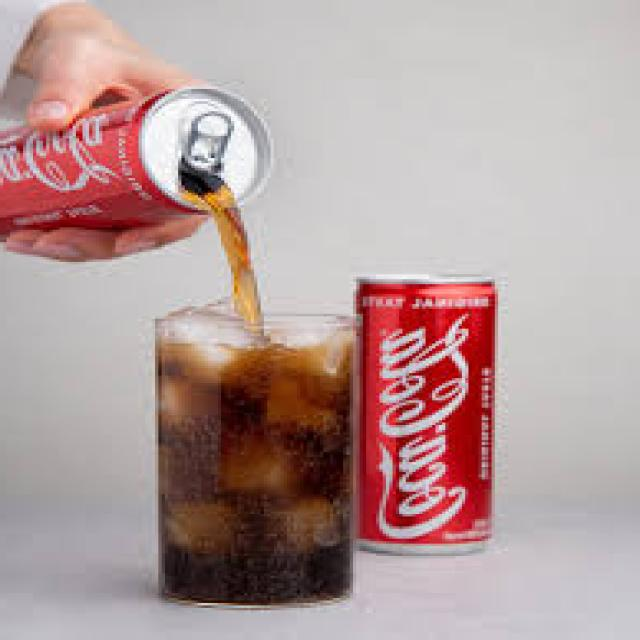Coca-Cola: (0, 83, 280, 290), (345, 263, 516, 561)
